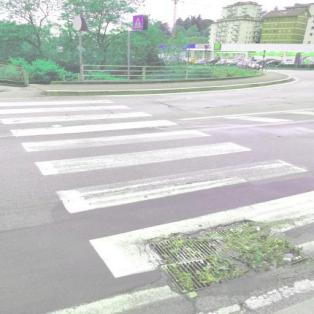Paso de Cebra: (15, 128, 267, 179)
